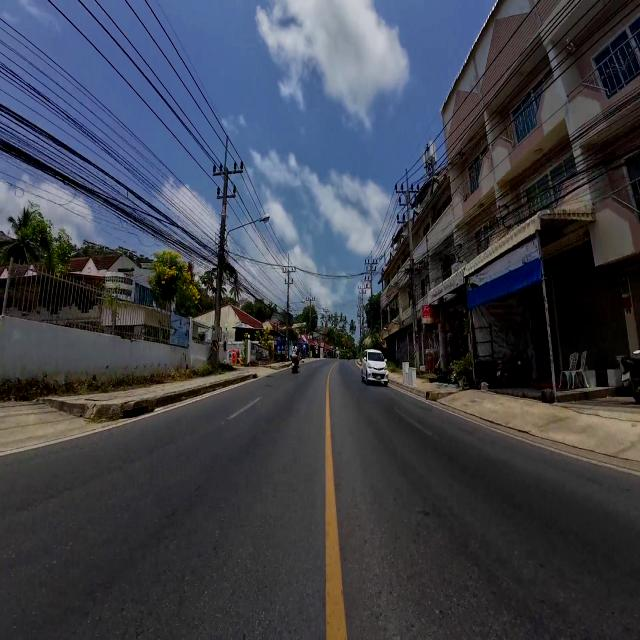car: (361, 350, 388, 386)
motorcycle: (496, 354, 532, 388), (291, 355, 299, 373)
